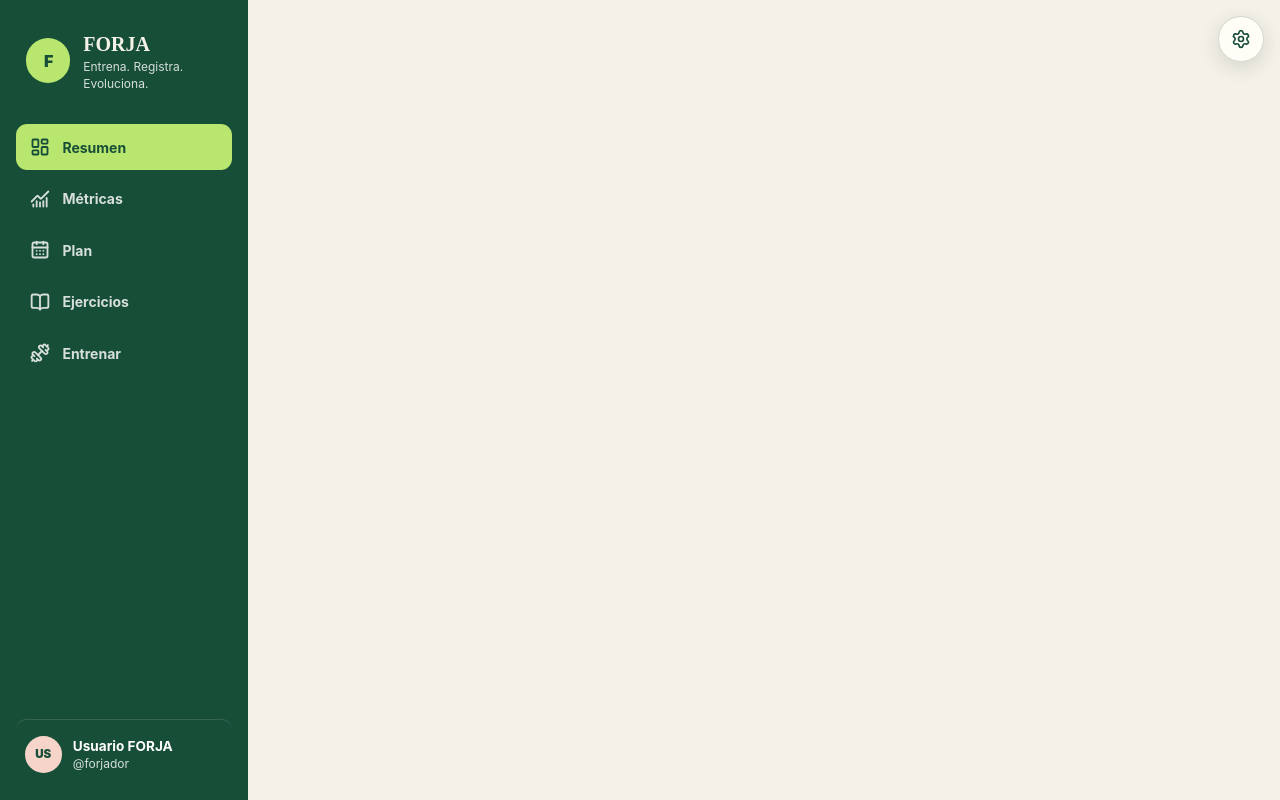
Test: flujo de configuración inicial › no reaparece tras completarse y puede abrirse desde el icono superior
Click the button named "Reabrir configuración guiada". click: (1241, 39)
box: x1=1218 y1=16 x2=1264 y2=62
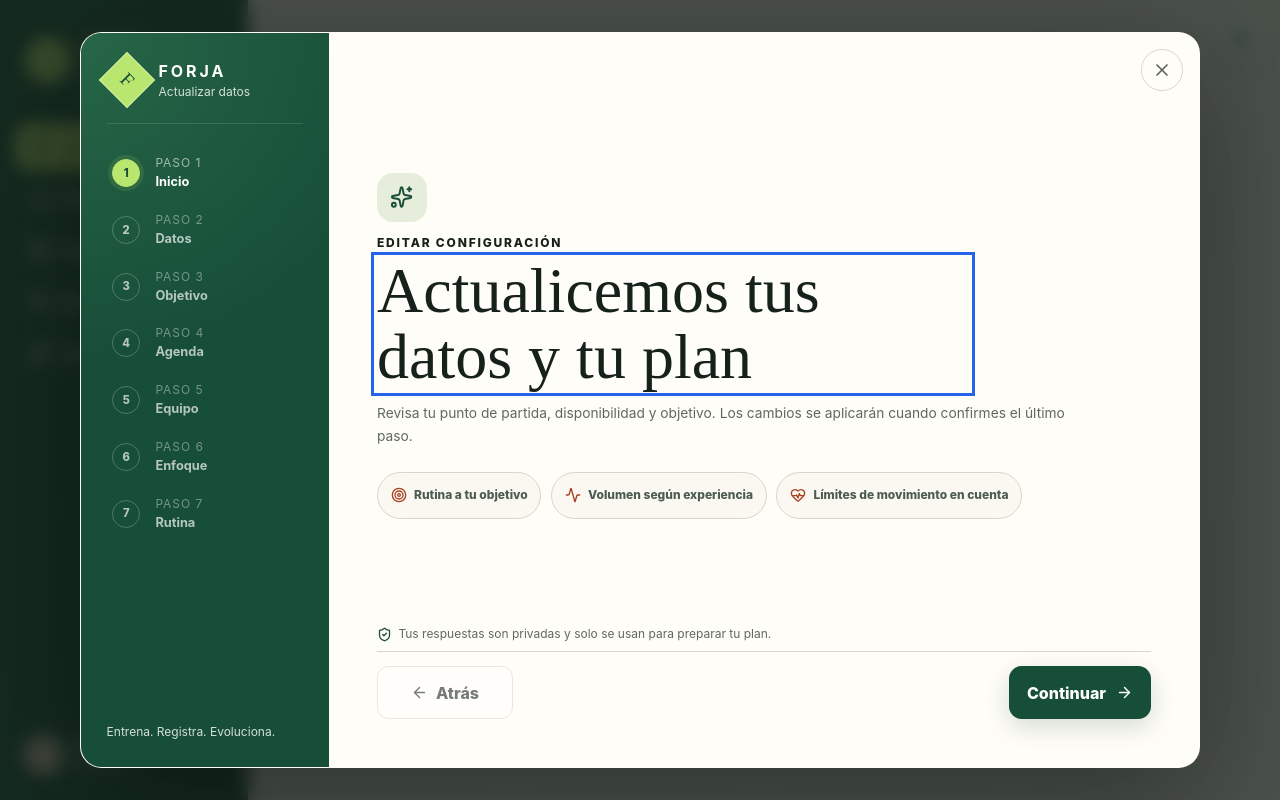
Expected: the dialog named "Actualicemos tus datos y tu plan" is shown
Click the button named "Cerrar configuración guiada sin guardar". click: (1162, 70)
box: x1=1141 y1=49 x2=1183 y2=91
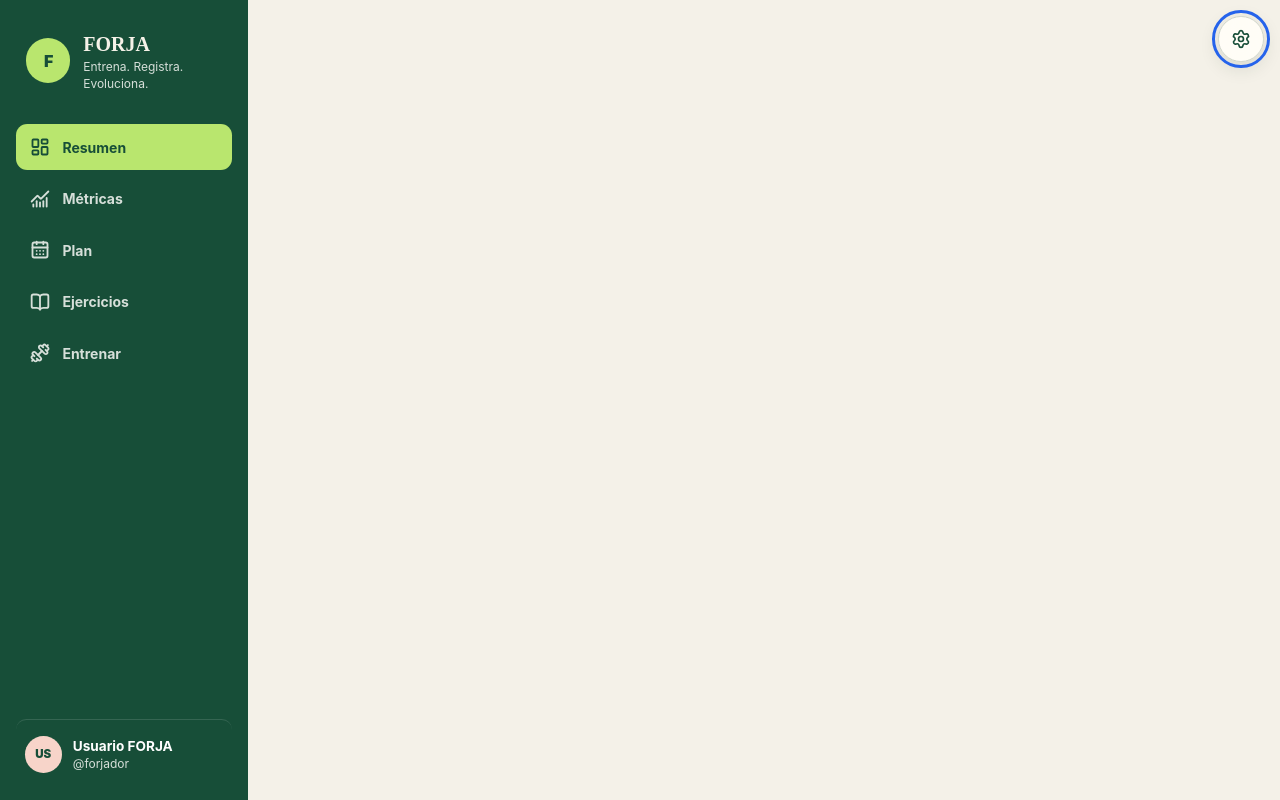
Expected: the dialog is gone
